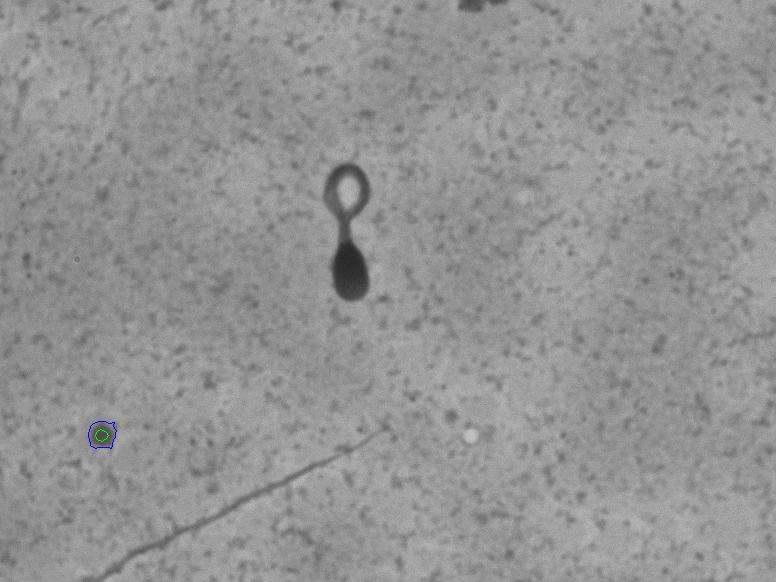Abnormal: (282, 141, 423, 326)
